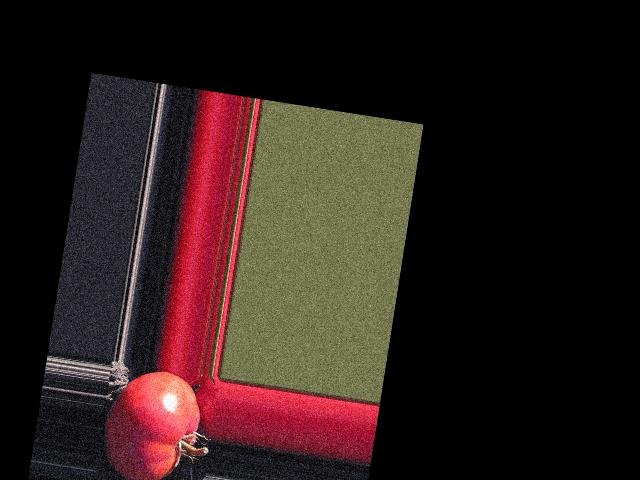tomato: (97, 364, 205, 480)
